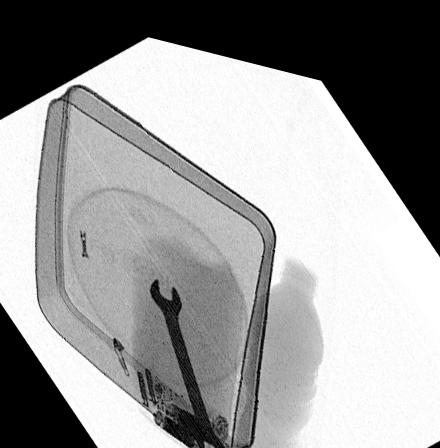Wrench: (147, 270, 224, 448)
